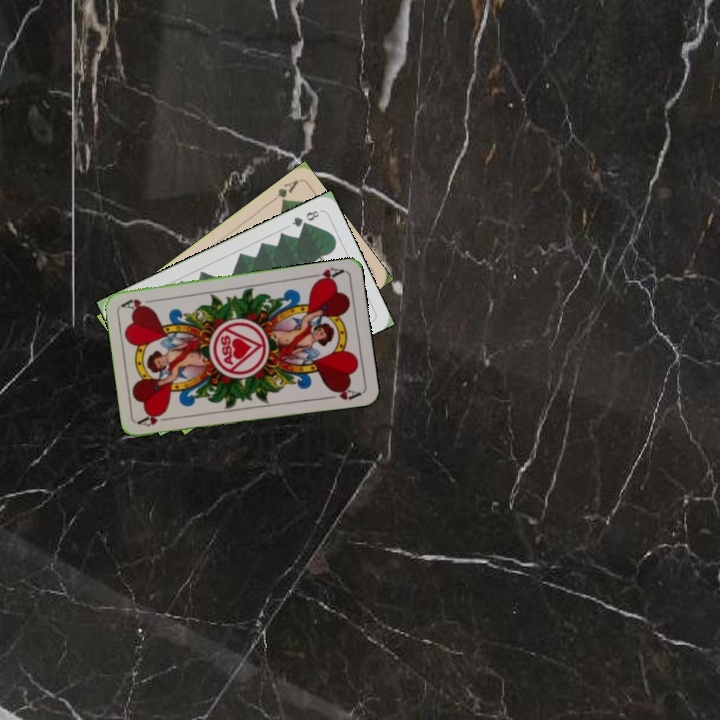G8: (287, 206, 322, 230)
GA: (265, 176, 300, 206)
HA: (306, 264, 346, 286), (135, 408, 176, 429)
